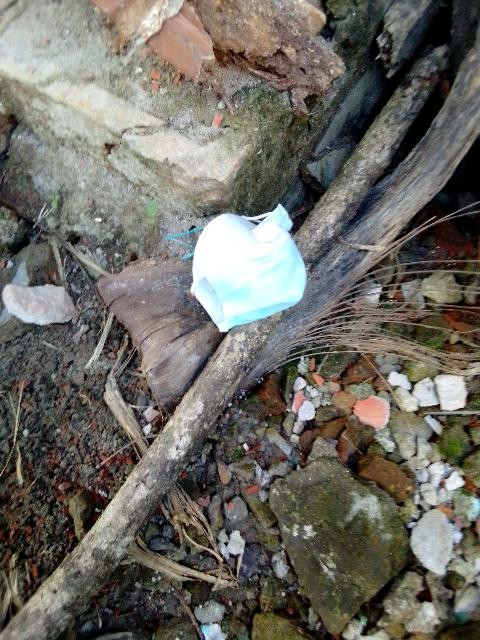mask: (180, 198, 319, 327)
